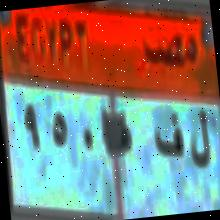0: (79, 124, 96, 156)
5: (48, 109, 70, 148)
9: (20, 104, 44, 152)
faa: (150, 112, 187, 165)
laam: (186, 107, 216, 174)
